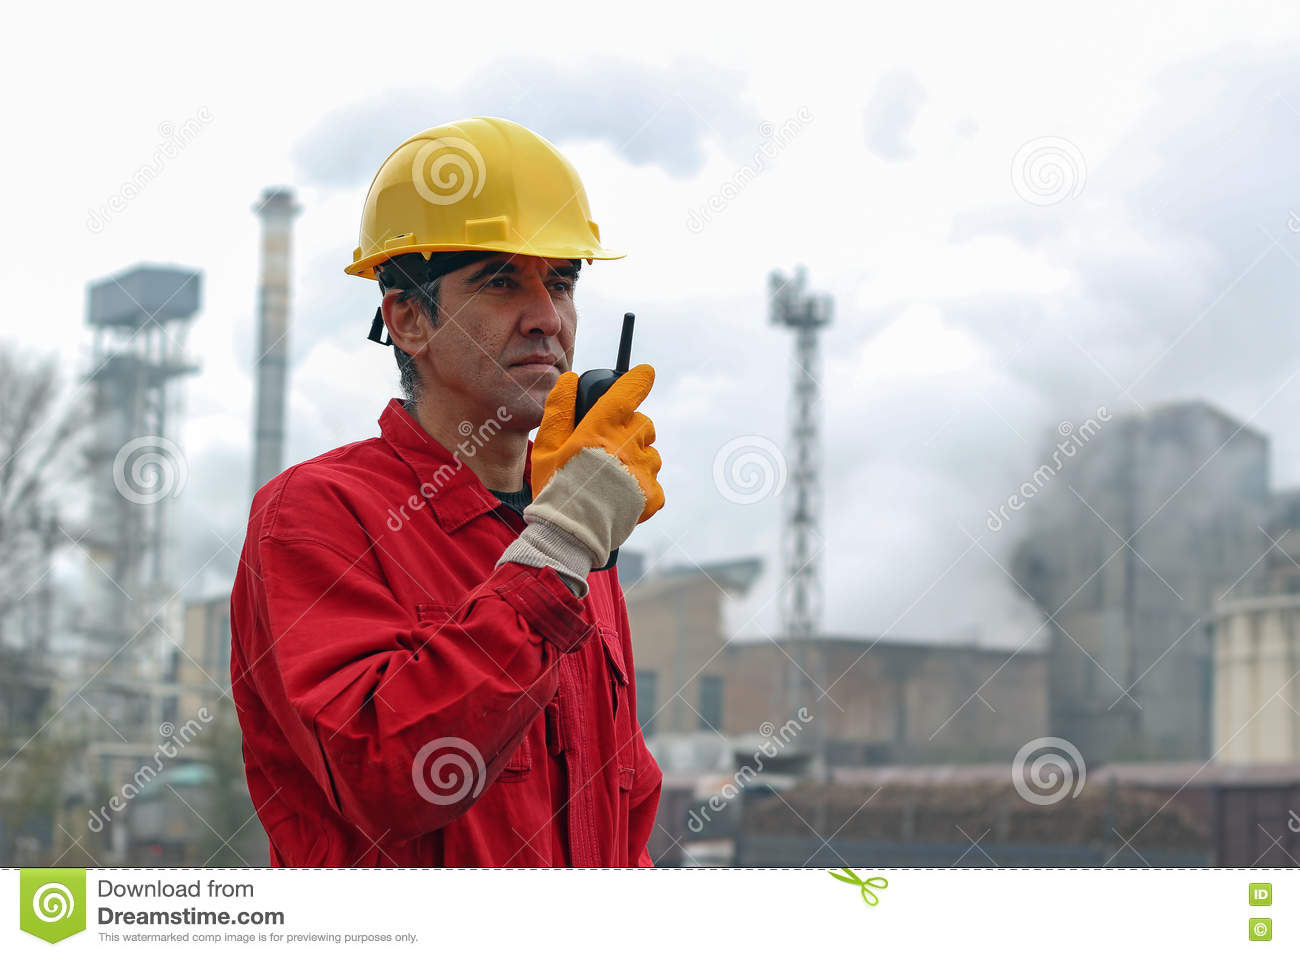Person_wearing_helmet: (334, 99, 628, 317)
